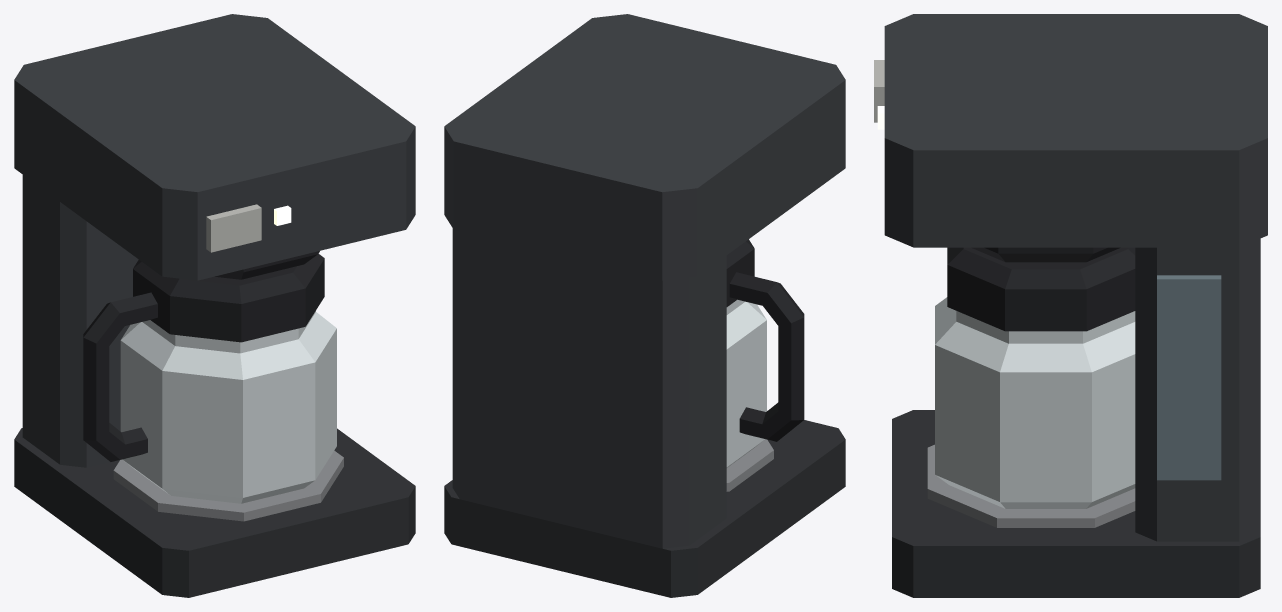
File: CoffeeMachine.fbx
3 views of the same model, side by side, from view 1: azimuth 30°, elevation 25°; view 2: azimuth 150°, elevation 25°; view 3: azimuth 270°, elevation 25° (orthographic). The views are drawn at different scales.
Visible parts, largest first — view 1: CoffeeMachine_Body, CoffeeMachine_Glass, CoffeeMachine_Base, CoffeeMachine_Trim, CoffeeMachine_Plate, CoffeeMachine_Switch; view 2: CoffeeMachine_Body, CoffeeMachine_Base, CoffeeMachine_Trim, CoffeeMachine_Glass, CoffeeMachine_Plate; view 3: CoffeeMachine_Body, CoffeeMachine_Glass, CoffeeMachine_Base, CoffeeMachine_Trim, CoffeeMachine_Window, CoffeeMachine_Plate, CoffeeMachine_Switch.
Part boxes in pixels (<box>): CoffeeMachine_Body: <box>14,14,415,467</box>; CoffeeMachine_Glass: <box>120,311,336,503</box>; CoffeeMachine_Base: <box>14,428,415,597</box>; CoffeeMachine_Trim: <box>83,251,324,461</box>; CoffeeMachine_Plate: <box>113,450,343,521</box>; CoffeeMachine_Switch: <box>206,204,261,252</box>; CoffeeMachine_Body: <box>444,14,845,548</box>; CoffeeMachine_Base: <box>444,420,845,597</box>; CoffeeMachine_Trim: <box>726,239,804,441</box>; CoffeeMachine_Glass: <box>726,299,766,467</box>; CoffeeMachine_Plate: <box>726,439,773,491</box>; CoffeeMachine_Body: <box>884,14,1267,541</box>; CoffeeMachine_Glass: <box>935,297,1135,508</box>; CoffeeMachine_Base: <box>892,410,1260,597</box>; CoffeeMachine_Trim: <box>947,247,1135,331</box>; CoffeeMachine_Window: <box>1157,275,1221,480</box>; CoffeeMachine_Plate: <box>927,444,1135,527</box>; CoffeeMachine_Switch: <box>874,60,884,122</box>.
Bounding box in the file's own units: 0.9662 × 1.38 × 1.1.
